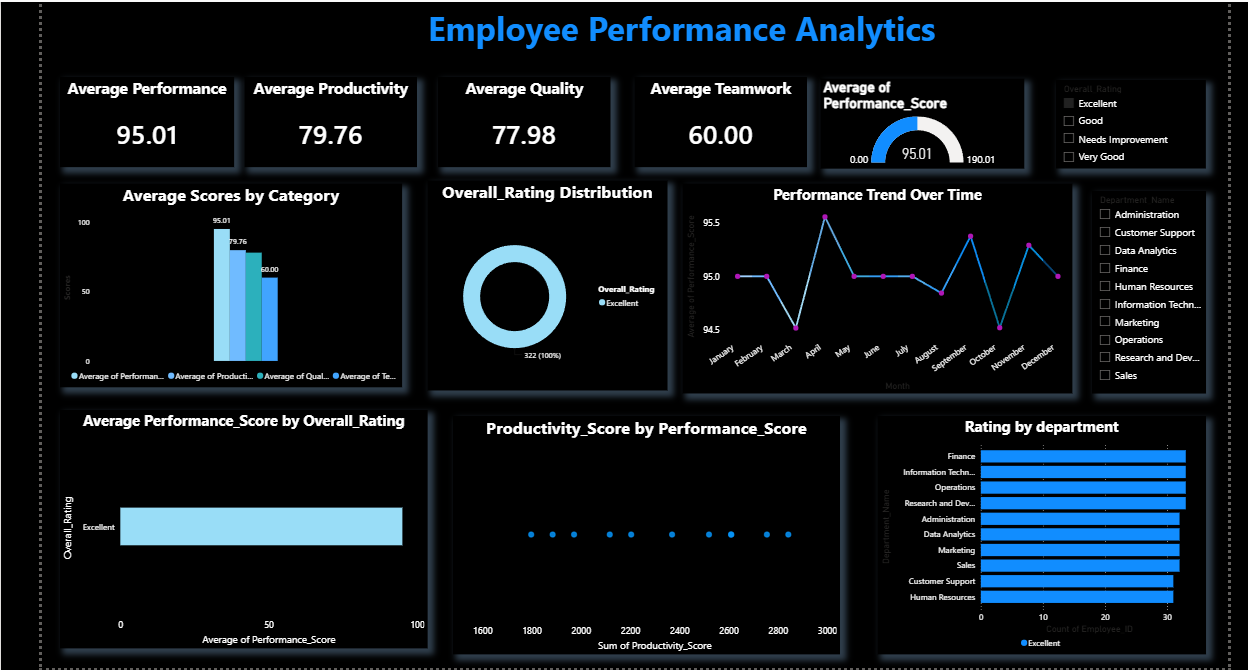

Layout of this report page (visuals, bound fields, positions):
{"tool":"powerbi","page":{"name":"Page 1","canvas":[1920,1080],"ordinal":0},"visuals":[{"type":"cardVisual","title":"Average Performance","fields":{"Data":["Avg(employee_feedback.Performance_Score)"]},"box":[29.1,121.4,281.7,145.7],"z":0},{"type":"cardVisual","title":"Average Productivity","fields":{"Data":["Avg(employee_feedback.Productivity_Score)"]},"box":[327.9,121.4,279.3,145.7],"z":1000},{"type":"cardVisual","title":"Average Quality","fields":{"Data":["Avg(employee_feedback.Quality_Score)"]},"box":[641.2,121.4,279.3,145.7],"z":2000},{"type":"cardVisual","title":"Average Teamwork","fields":{"Data":["Avg(employee_feedback.Teamwork_Score)"]},"box":[959.4,121.4,279.3,145.7],"z":3000},{"type":"clusteredColumnChart","title":"Average Scores by Category","fields":{"Y":["Avg(employee_feedback.Performance_Score)","Avg(employee_feedback.Productivity_Score)","Avg(employee_feedback.Quality_Score)","Avg(employee_feedback.Teamwork_Score)"]},"box":[29.1,293.9,553.8,330.3],"z":4000},{"type":"donutChart","title":" Overall_Rating Distribution","fields":{"Category":["employee_feedback.Overall_Rating"],"Y":["CountNonNull(employee_feedback.Employee_ID)"]},"box":[624.2,289,388.6,340],"z":5000},{"type":"barChart","title":"Average Performance_Score by Overall_Rating","fields":{"Y":["Avg(employee_feedback.Performance_Score)"],"Category":["employeeworkforcedb employee_workforce_analytics.Overall_Rating"]},"box":[29.1,660.6,595.1,386.2],"z":6000},{"type":"scatterChart","title":" Productivity_Score by Performance_Score","fields":{"Category":["employee_feedback.Performance_Score"],"X":["Sum(employee_feedback.Productivity_Score)"]},"box":[665.5,670.4,626.6,386.2],"z":7000},{"type":"lineChart","title":"Performance Trend Over Time","fields":{"Y":["Avg(employeeworkforcedb employee_workforce_analytics.Performance_Score)"],"Category":["employeeworkforcedb employee_workforce_analytics.Review_Date.Variation.Date Hierarchy.Month"]},"box":[1037.1,293.9,631.5,340],"z":8000},{"type":"clusteredBarChart","title":"Rating by department","fields":{"Category":["employeeworkforcedb employee_workforce_analytics.Department_Name"],"Y":["CountNonNull(employeeworkforcedb employee_workforce_analytics.Employee_ID)"],"Series":["employeeworkforcedb employee_workforce_analytics.Overall_Rating"]},"box":[1352.9,670.4,531.9,386.2],"z":9000},{"type":"slicer","fields":{"Values":["employeeworkforcedb employee_workforce_analytics.Overall_Rating"]},"box":[1641.9,126.3,242.9,143.3],"z":10000},{"type":"gauge","fields":{"Y":["Avg(employeeworkforcedb employee_workforce_analytics.Performance_Score)"]},"box":[1260.6,123.9,330.3,145.7],"z":11000},{"type":"slicer","fields":{"Values":["employeeworkforcedb employee_workforce_analytics.Department_Name"]},"box":[1700.2,306,184.6,327.9],"z":12000},{"type":"textbox","box":[522.2,0,1027.4,92.3],"z":13000}]}

Visuals, with their boxes on the page's 1920x1080 design canvas (x1, y1, x2, y2). These are canvas units, not pixel positions in the 1248x670 screenshot, which may show the page scaled, cropped or inside an application window:
"Average Performance" cardVisual: <bbox>29, 121, 311, 267</bbox>
"Average Productivity" cardVisual: <bbox>328, 121, 607, 267</bbox>
"Average Quality" cardVisual: <bbox>641, 121, 920, 267</bbox>
"Average Teamwork" cardVisual: <bbox>959, 121, 1239, 267</bbox>
"Average Scores by Category" clusteredColumnChart: <bbox>29, 294, 583, 624</bbox>
" Overall_Rating Distribution" donutChart: <bbox>624, 289, 1013, 629</bbox>
"Average Performance_Score by Overall_Rating" barChart: <bbox>29, 661, 624, 1047</bbox>
" Productivity_Score by Performance_Score" scatterChart: <bbox>666, 670, 1292, 1057</bbox>
"Performance Trend Over Time" lineChart: <bbox>1037, 294, 1669, 634</bbox>
"Rating by department" clusteredBarChart: <bbox>1353, 670, 1885, 1057</bbox>
slicer - employeeworkforcedb employee_workforce_analytics.Overall_Rating: <bbox>1642, 126, 1885, 270</bbox>
gauge - Avg(employeeworkforcedb employee_workforce_analytics.Performance_Score): <bbox>1261, 124, 1591, 270</bbox>
slicer - employeeworkforcedb employee_workforce_analytics.Department_Name: <bbox>1700, 306, 1885, 634</bbox>
textbox: <bbox>522, 0, 1550, 92</bbox>
